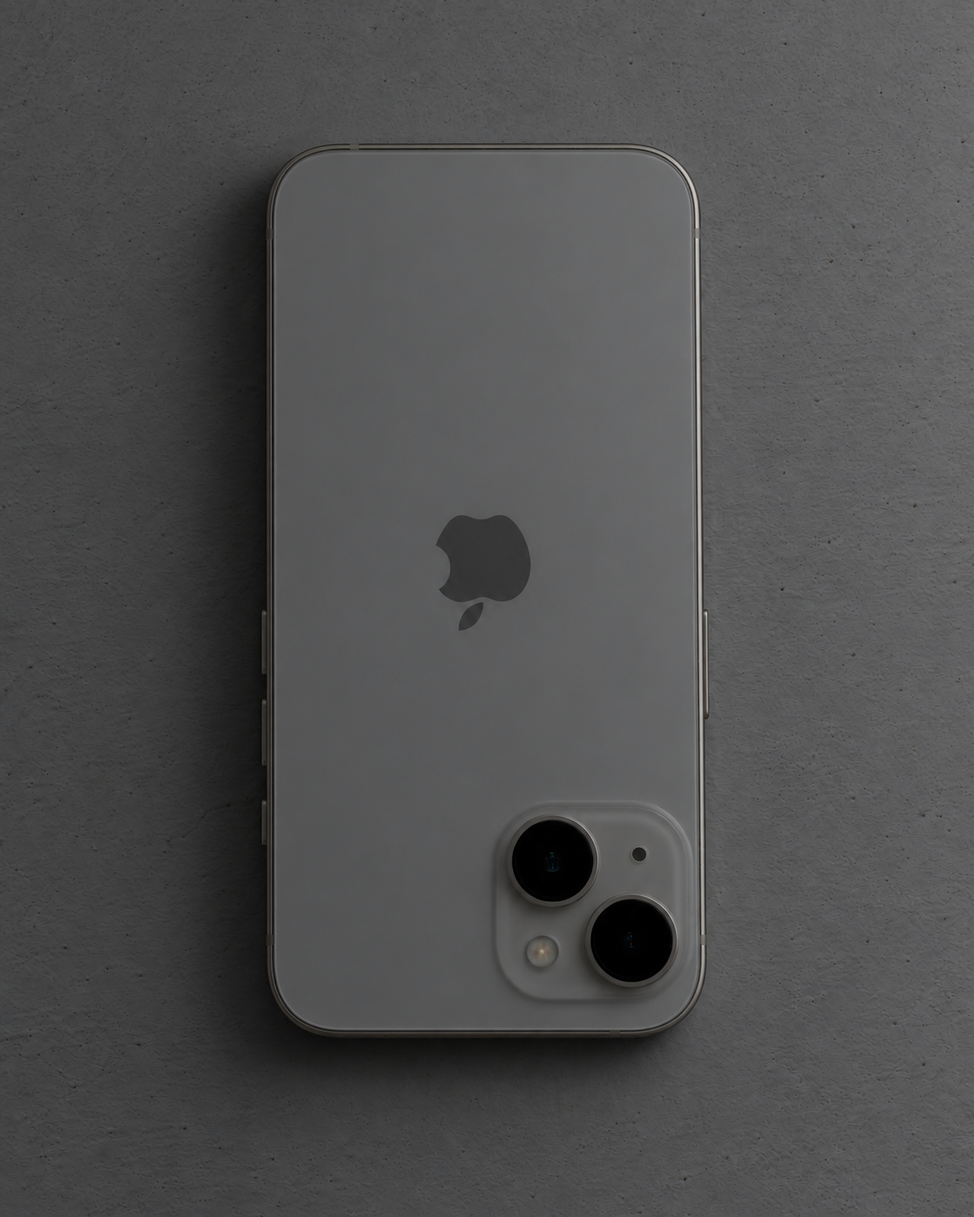iphone_14_white: (191, 102, 763, 1099), (504, 814, 688, 1004)
